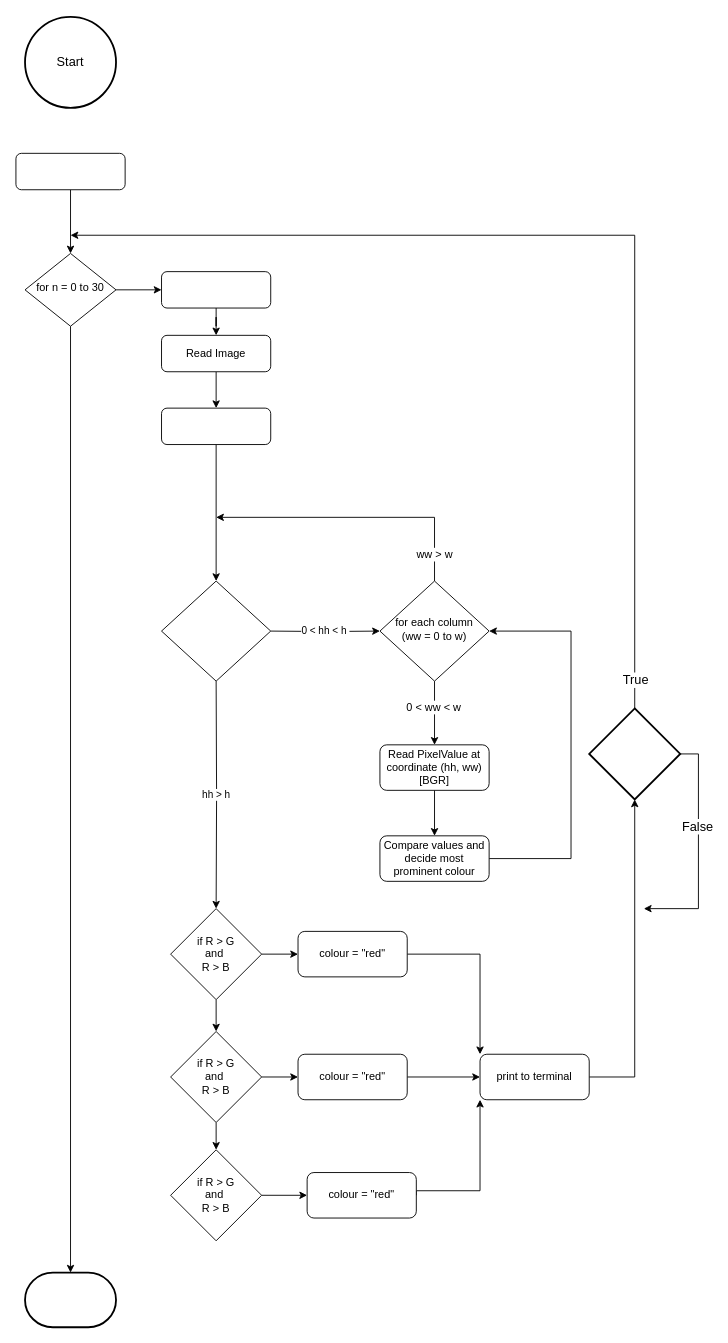
Image size: 728x1343. Some labels were removed from this diagram. Each missing label, with the centre of its shape:
Exit Proxess: pixel 70 1299
Find width (w) and height (h) of Image: pixel 216 426
for each row (hh = 0 to h): pixel 216 630
Get Path to Folder: pixel 70 171
Get Path to Image: pixel 216 289
key X pressed?: pixel 634 753
